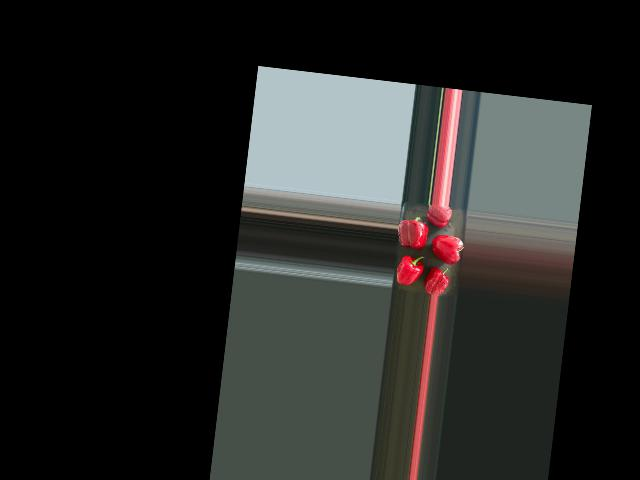bell_pepper: (423, 204, 457, 230)
